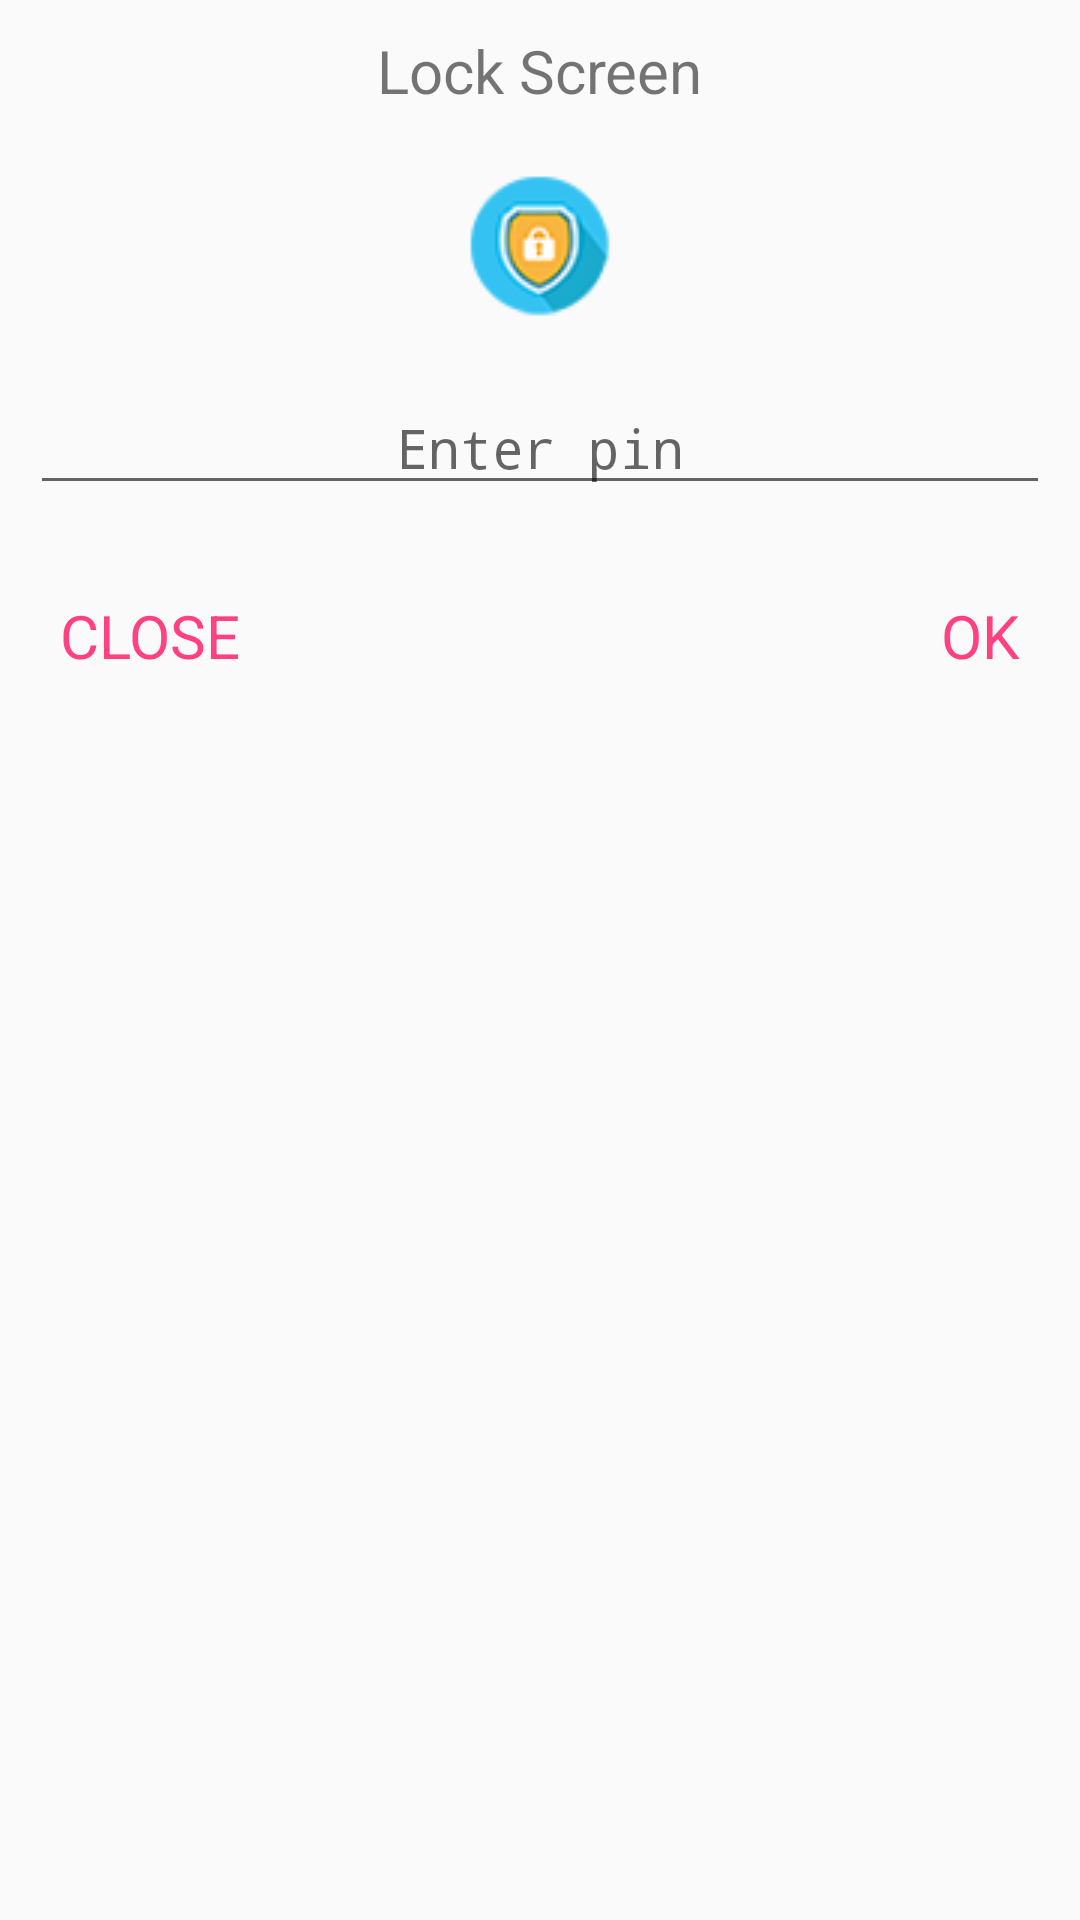

Icon bounding boxes for this 1080*1920 phone screenshot, format (x1, y1, x2, y2):
app: (470, 176, 610, 316)
